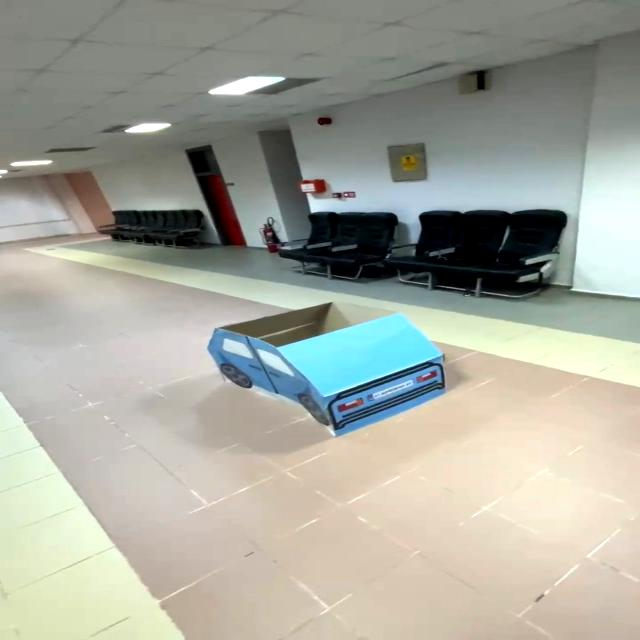blue_car: (192, 294, 469, 447)
